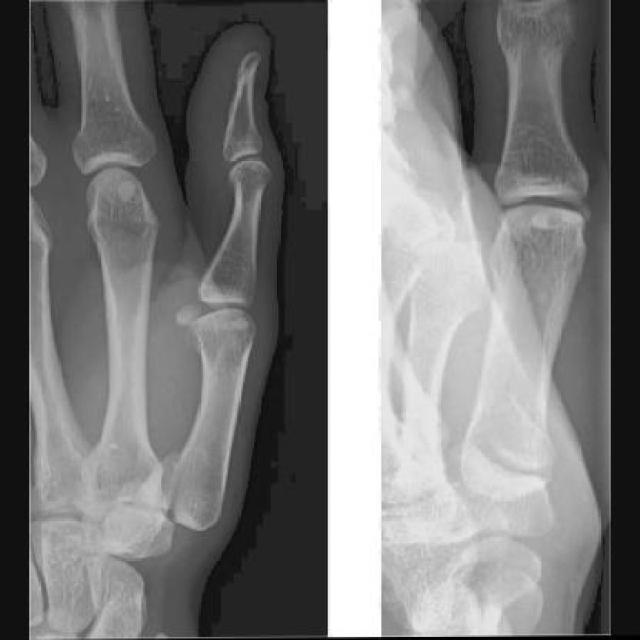Fracture: (466, 396, 554, 484), (134, 442, 196, 526)
